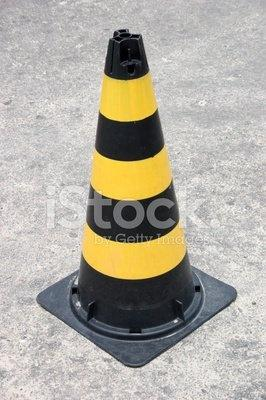cone_barrel: (68, 27, 205, 341)
